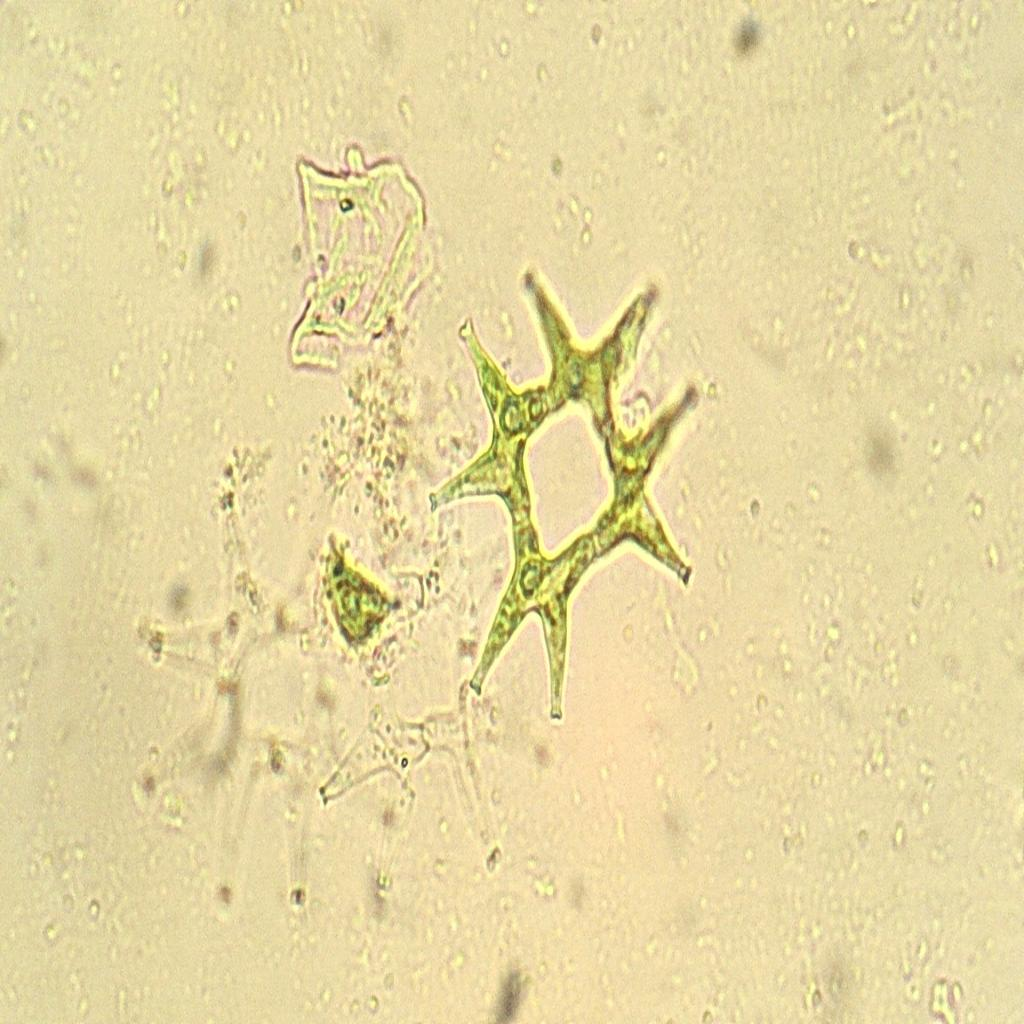Pediastrum_75O: (414, 257, 726, 748)
